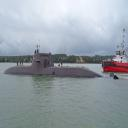submarine: (3, 49, 119, 79)
